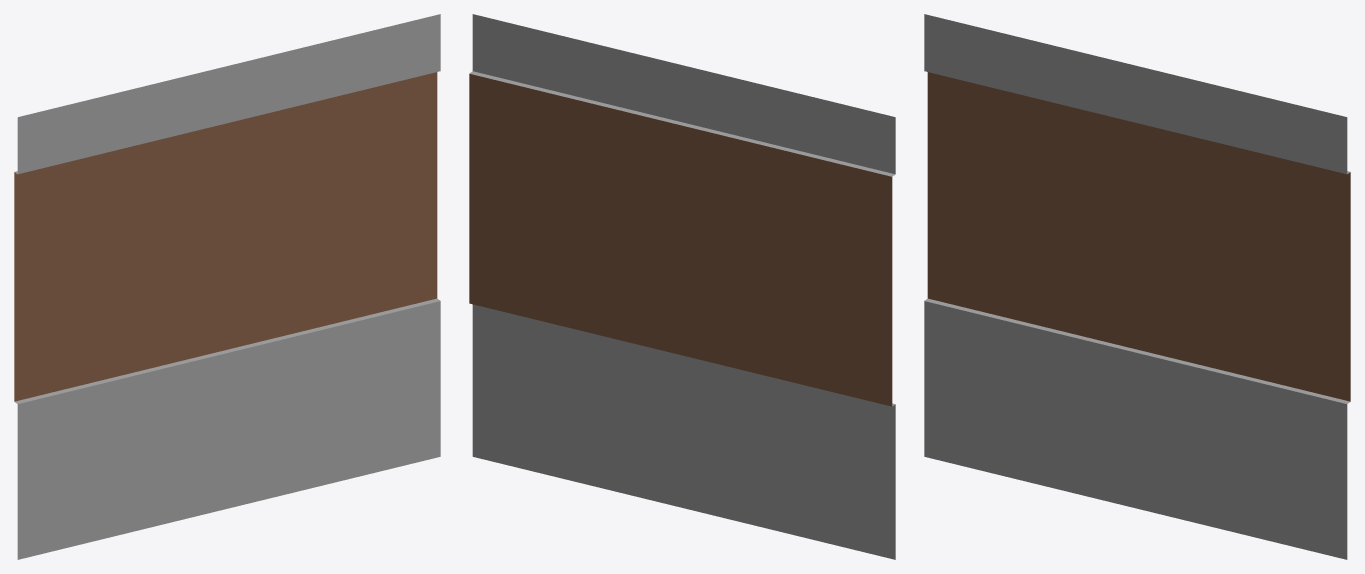
Rendered from S2_Wall.fbx.
3 renders of one model, left to right at view 1: azimuth 30°, elevation 25°; view 2: azimuth 150°, elevation 25°; view 3: azimuth 330°, elevation 25°, orthographic.
Parts seen in each view (by area): view 1: S2_Wall; view 2: S2_Wall; view 3: S2_Wall.
Boxes of the visible parts, box(x1,y1,x2,y2) form: S2_Wall: box(14, 14, 440, 559); S2_Wall: box(469, 14, 895, 559); S2_Wall: box(924, 14, 1350, 559).
Bounding box in the file's own units: 30 × 30 × 0.4191.
